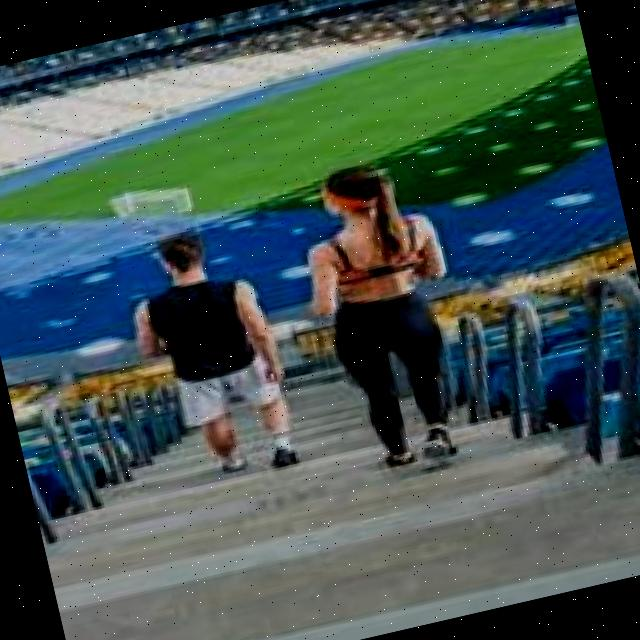stairs: (11, 261, 640, 640)
